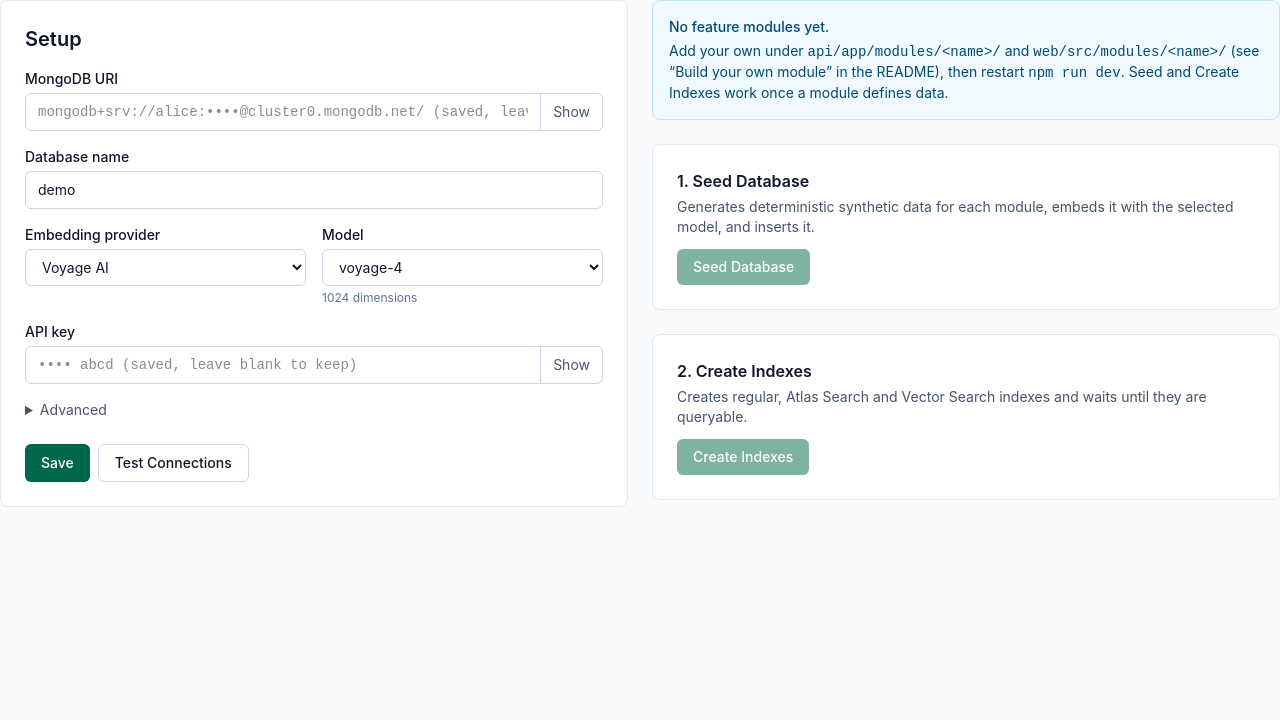
SetupPage › provider change updates model options and dims
Expected: the text with test id "dims" reads "1024 dimensions", x1=322 y1=290 x2=417 y2=305
Select "OpenAI" in the dropdown labelled "Embedding provider" at x=166, y=268, box x1=25 y1=249 x2=306 y2=286
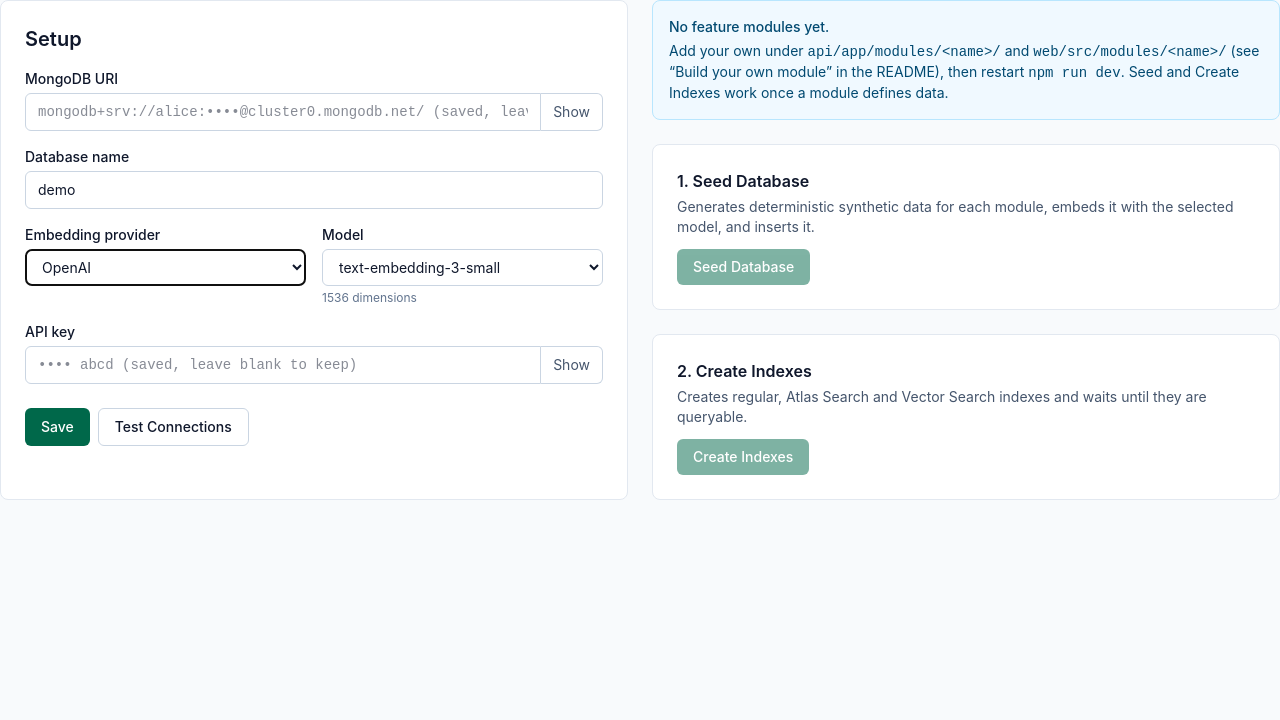
Expected: the text with test id "dims" reads "1536 dimensions", x1=322 y1=290 x2=417 y2=305
